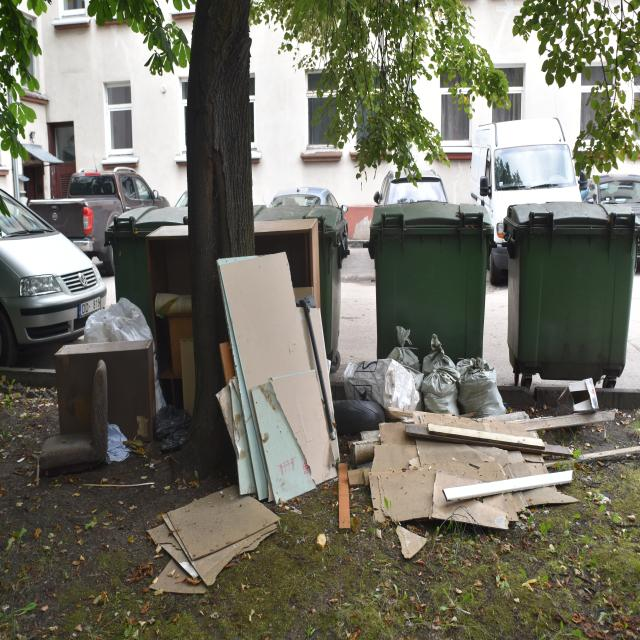entulho: (217, 254, 342, 493), (150, 223, 324, 382), (350, 414, 579, 530), (153, 493, 281, 591), (55, 341, 158, 460), (84, 294, 162, 430), (41, 362, 109, 478), (542, 444, 640, 473), (331, 396, 386, 434), (525, 411, 614, 432)
lixo domiciliar: (381, 336, 509, 423)
